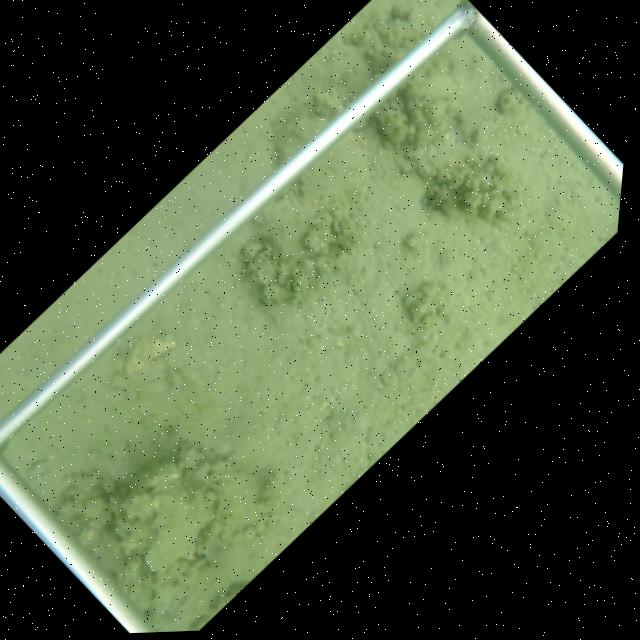Oyster-Indeterminate: (295, 129, 371, 205), (219, 467, 270, 546)
